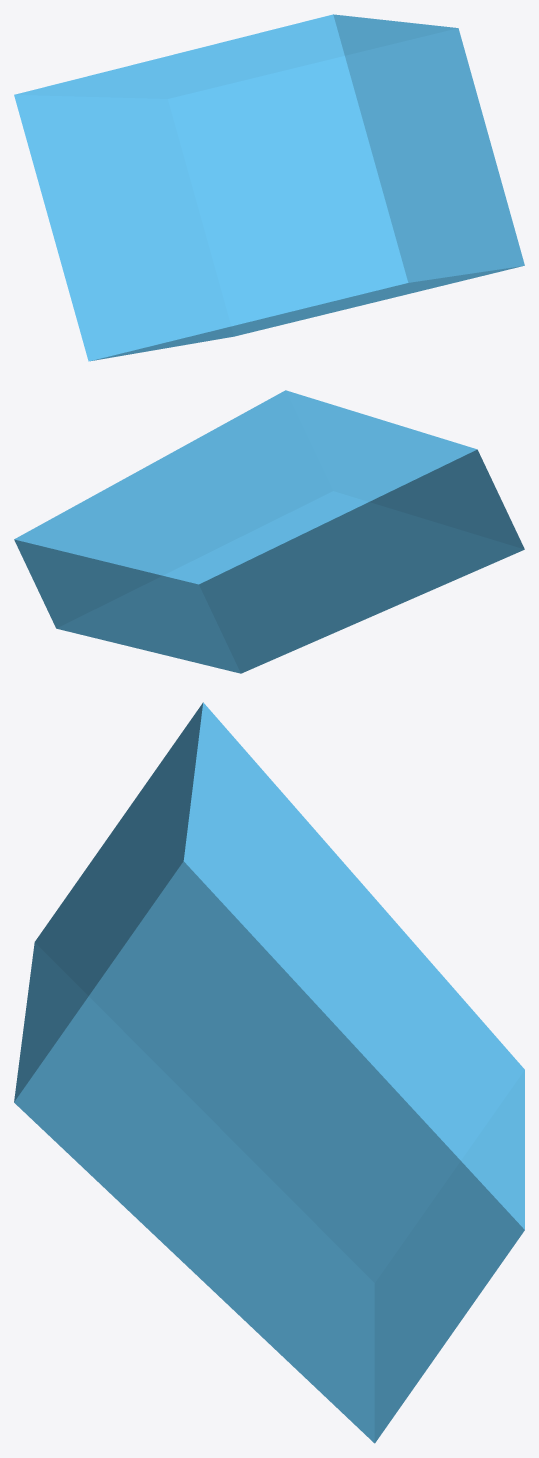
Rendered from Event_421556567_HBrechit_5.fbx.
The picture shows the model from 3 angles, top to bottom: view 1: azimuth 30°, elevation 25°; view 2: azimuth 150°, elevation 25°; view 3: azimuth 270°, elevation 25°; orthographic projection. The views are drawn at different scales.
Parts seen in each view (by area): view 1: Model; view 2: Model; view 3: Model.
Part boxes in pixels (x1,y1,x2,y2): Model: [14, 14, 524, 361]; Model: [14, 390, 524, 673]; Model: [14, 702, 524, 1443].
Size of the model in its own units: 1.1 by 0.6823 by 0.7344.
